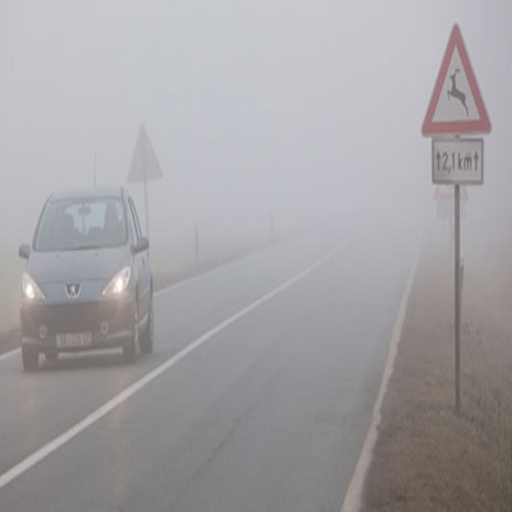Animal Crossing: (415, 10, 495, 141)
